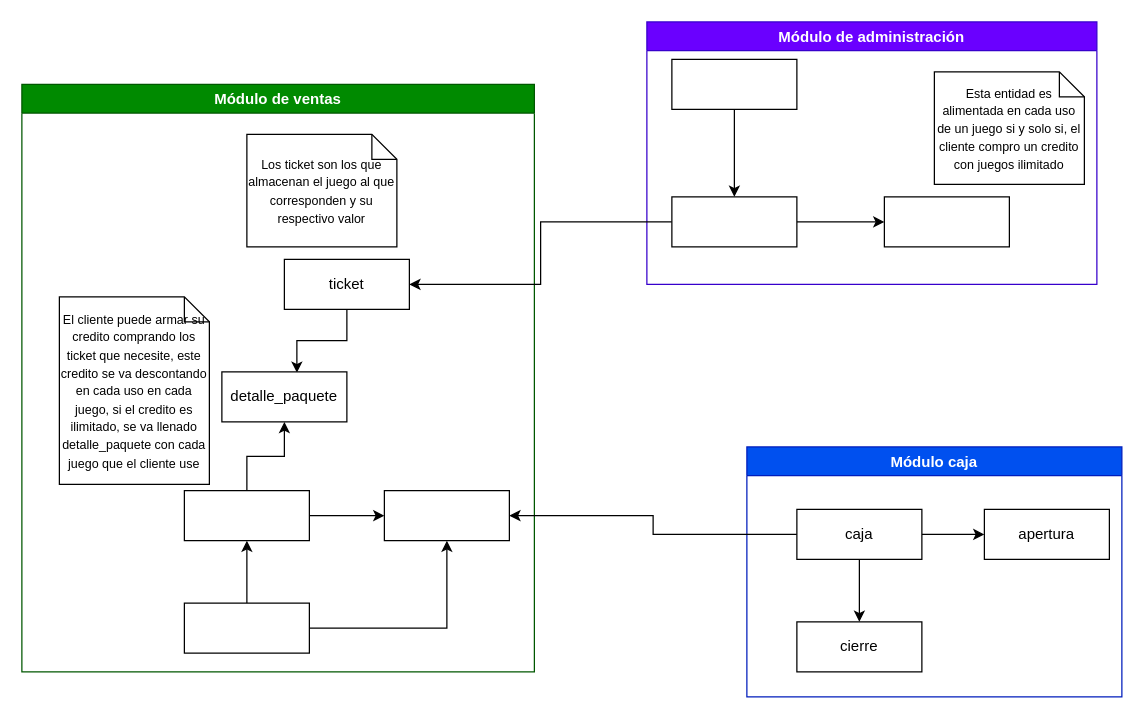
This 1144x719 diagram has some shape labels left out. The centre of each missing label's shape, as x and y in pixels:
"cliente" belongs at (246,627).
"cobro_tarjeta" belongs at (446,515).
"credito" belongs at (246,515).
"estadistica" belongs at (946,221).
"juego" belongs at (734,221).
"parque" belongs at (734,83).
